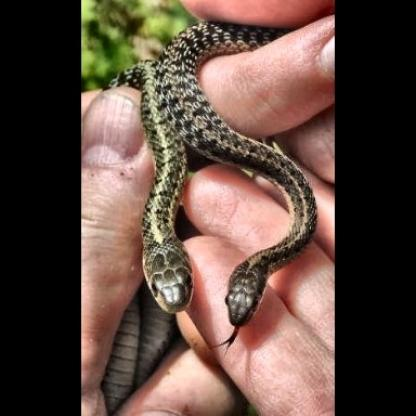Snake: (204, 17, 326, 345), (122, 20, 198, 320)
